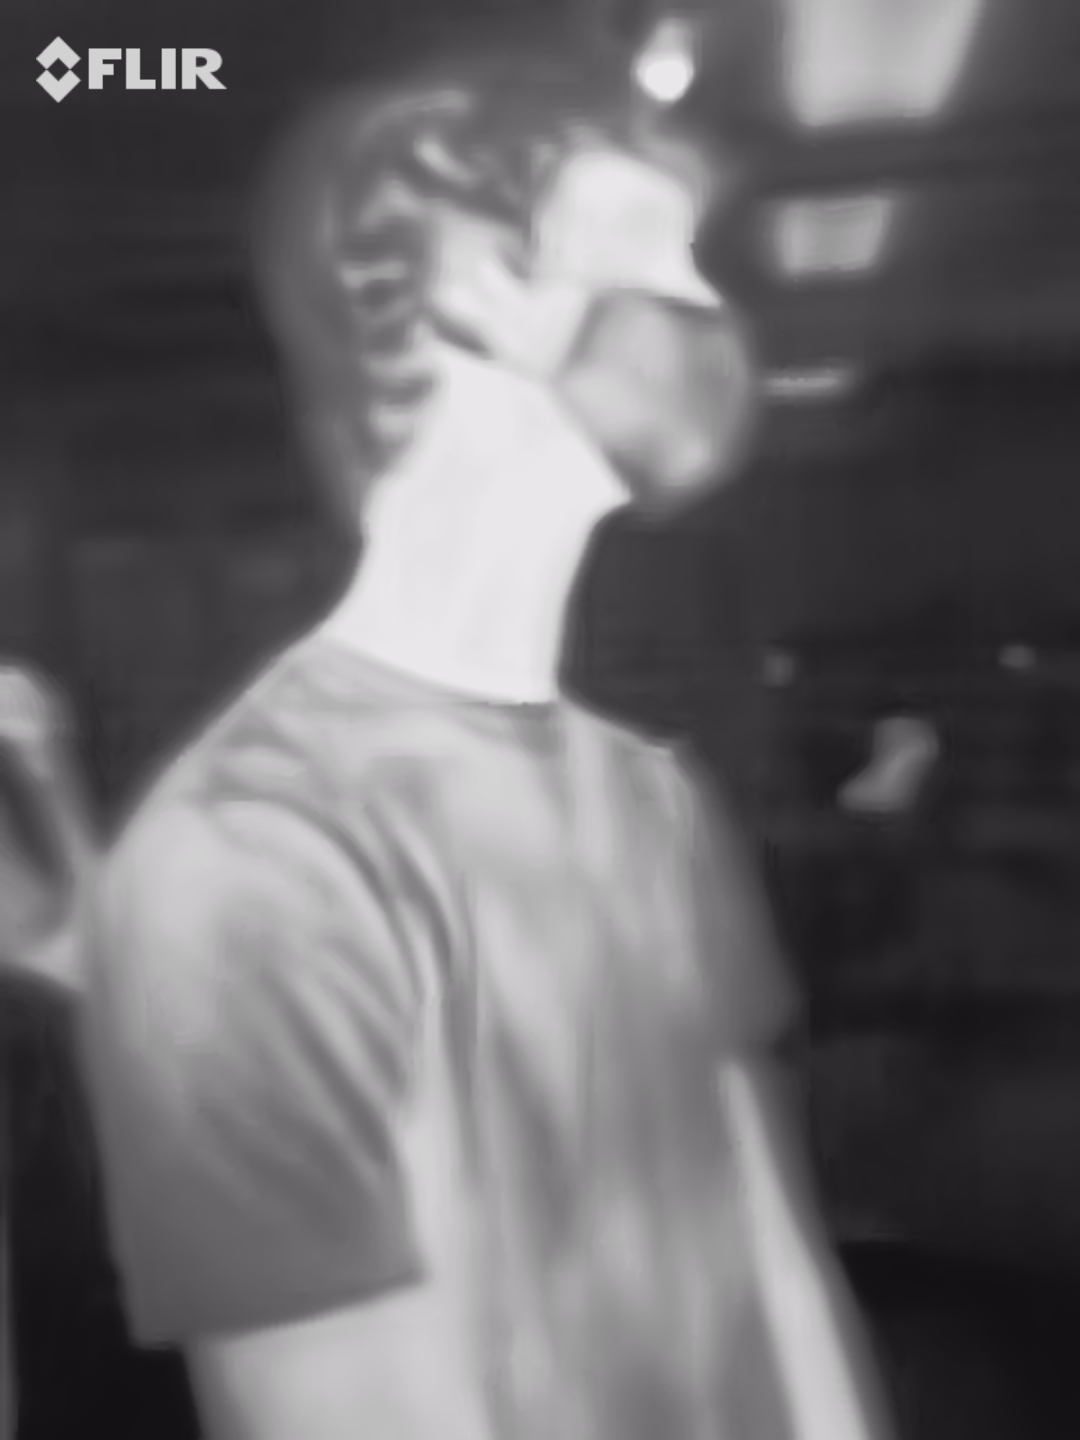head: (248, 47, 762, 562)
